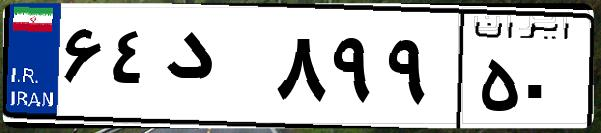0: (525, 38, 570, 115)
4: (110, 28, 158, 98)
5: (475, 38, 525, 113)
6: (57, 26, 110, 100)
8: (270, 28, 330, 110)
9: (385, 28, 445, 110), (330, 28, 385, 110)
د: (158, 20, 270, 120)
